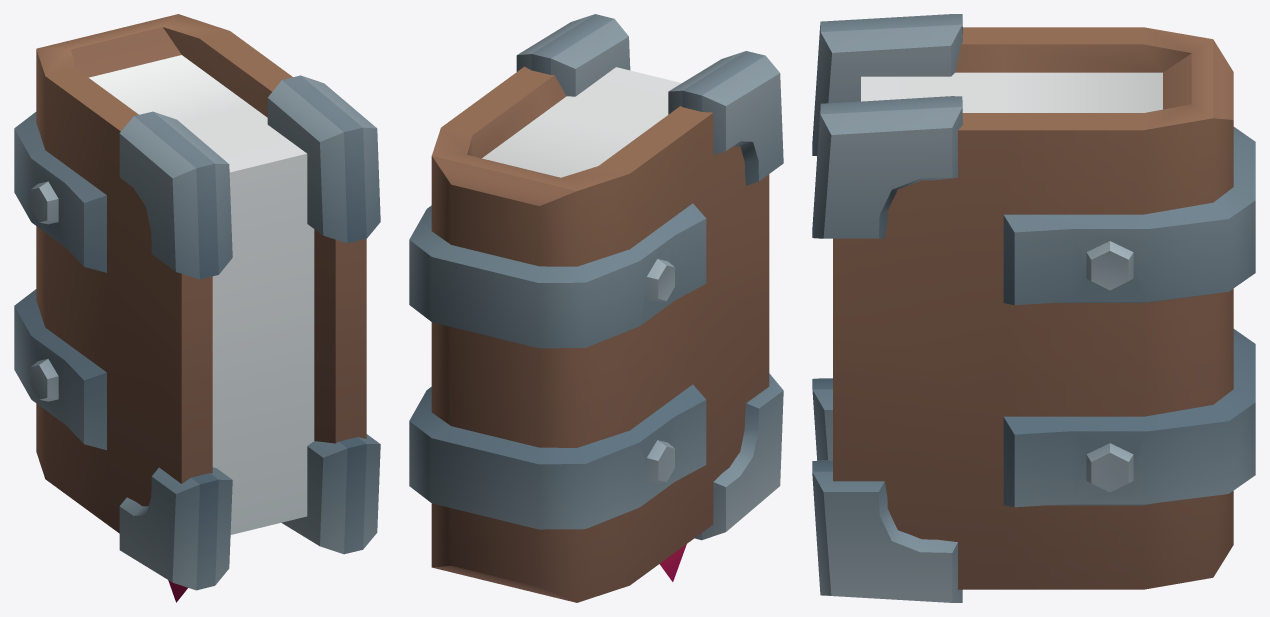
File: journal_closed.glb
3 views of the same model, side by side, from view 1: azimuth 30°, elevation 25°; view 2: azimuth 150°, elevation 25°; view 3: azimuth 270°, elevation 25° (orthographic). The views are drawn at different scales.
Visible parts, largest first — view 1: journal_closed; view 2: journal_closed; view 3: journal_closed.
Boxes of the visible parts, x1=… form: journal_closed: x1=14, y1=14, x2=380, y2=602; journal_closed: x1=409, y1=14, x2=783, y2=602; journal_closed: x1=812, y1=14, x2=1255, y2=602.
Bounding box in the file's own units: 0.2301 × 0.4748 × 0.3415.
1 material, 1 textured.
